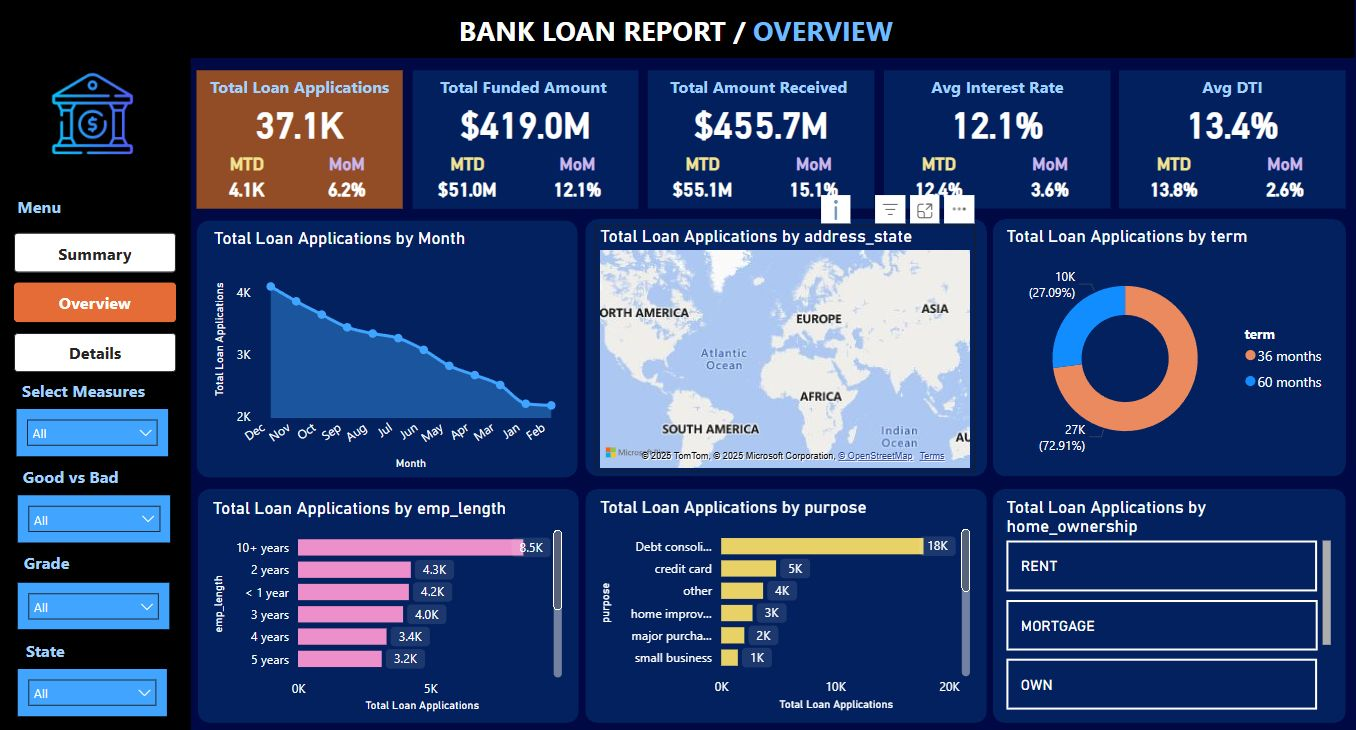

What the dashboard file says about the page in this screenshot:
{"tool":"powerbi","page":{"name":"Overview","canvas":[1335,720],"ordinal":1},"visuals":[{"type":"shape","box":[975.9,480.6,347,229.9],"z":0},{"type":"shape","box":[575.4,480.6,394.7,229.9],"z":1000},{"type":"shape","box":[195.2,480.6,374.5,229.9],"z":2000},{"type":"shape","box":[194,69.5,202.7,136.1],"z":3000,"group":"g1"},{"type":"shape","box":[405.8,69.5,221.5,136.1],"z":3000,"group":"g3"},{"type":"shape","box":[636.5,69.5,222.7,135.9],"z":3000,"group":"g4"},{"type":"shape","box":[868.2,69.5,222.7,135.9],"z":3000,"group":"g5"},{"type":"shape","box":[1100,69.5,222.7,135.9],"z":3000,"group":"g6"},{"type":"shape","box":[975.9,215.8,347,253],"z":3000},{"type":"card","fields":{"Values":["financial_loan.Total Loan Applications"]},"box":[194,88.3,202.7,65.2],"z":4000,"group":"g1"},{"type":"card","fields":{"Values":["financial_loan.Total Funded Amount"]},"box":[405.8,88.3,221.5,65.2],"z":4000,"group":"g3"},{"type":"card","fields":{"Values":["financial_loan.Total Amount Recieved"]},"box":[636.5,88.3,222.7,65.1],"z":4000,"group":"g4"},{"type":"card","fields":{"Values":["financial_loan.Avg Interest Rate"]},"box":[868.2,88.3,222.7,65.1],"z":4000,"group":"g5"},{"type":"card","fields":{"Values":["financial_loan.Avg DTI"]},"box":[1100,88.3,222.7,65.1],"z":4000,"group":"g6"},{"type":"shape","box":[575.4,215.8,394.7,253],"z":4000},{"type":"shape","box":[0,0,1330.1,57.8],"z":5000},{"type":"textbox","box":[194,69.5,202.7,34.8],"z":5000,"group":"g1"},{"type":"textbox","box":[405.8,69.5,221.5,34.8],"z":5000,"group":"g3"},{"type":"textbox","box":[636.5,69.5,222.7,34.7],"z":5000,"group":"g4"},{"type":"textbox","box":[868.2,69.5,222.7,34.7],"z":5000,"group":"g5"},{"type":"textbox","box":[1100,69.5,222.7,34.7],"z":5000,"group":"g6"},{"type":"textbox","box":[433.7,7.2,462.7,50.6],"z":6000},{"type":"card","title":"MTD","fields":{"Values":["financial_loan.MTD Total Amount Received"]},"box":[655.3,151.9,70.8,52],"z":6000,"group":"g4"},{"type":"card","title":"MTD","fields":{"Values":["financial_loan.MTD Avg Int Rate"]},"box":[887,151.9,70.8,52],"z":6000,"group":"g5"},{"type":"card","title":"MTD","fields":{"Values":["financial_loan.MTD Avg DTI"]},"box":[1118.8,151.9,70.8,52],"z":6000,"group":"g6"},{"type":"card","title":"MTD","fields":{"Values":["financial_loan.MTD Loan Applications"]},"box":[211.1,152,64.5,52.1],"z":6000,"group":"g1"},{"type":"card","title":"MTD","fields":{"Values":["financial_loan.MTD Funded Amount"]},"box":[424.5,152,70.5,52.1],"z":6000,"group":"g3"},{"type":"shape","box":[0,57.8,188,662.2],"z":7000},{"type":"card","title":"MoM","fields":{"Values":["financial_loan.MoM Total Amount Received"]},"box":[763.7,151.9,70.8,52],"z":7000,"group":"g4"},{"type":"card","title":"MoM","fields":{"Values":["financial_loan.MoM Avg Int Rate"]},"box":[995.4,151.9,70.8,52],"z":7000,"group":"g5"},{"type":"card","title":"MoM","fields":{"Values":["financial_loan.MoM Avg DTI"]},"box":[1227.2,151.9,70.8,52],"z":7000,"group":"g6"},{"type":"card","title":"MoM","fields":{"Values":["financial_loan.MoM Loan Application"]},"box":[309.8,152,64.5,52.1],"z":7000,"group":"g1"},{"type":"card","title":"MoM","fields":{"Values":["financial_loan.MoM Total Funded Amount"]},"box":[532.4,152,70.5,52.1],"z":7000,"group":"g3"},{"type":"group","id":"g1","title":"Group 2","box":[194,69.5,202.7,136.1],"z":7002,"group":"g2"},{"type":"pageNavigator","box":[14.5,229.9,159,137.3],"z":8000},{"type":"shape","box":[193.7,217.3,374.5,253],"z":9000},{"type":"image","box":[33.3,57.8,115.7,112.8],"z":10000},{"type":"textbox","box":[1.8,187.5,76.6,34.7],"z":11000},{"type":"slicer","fields":{"Values":["financial_loan.Good vs Bad Loan"]},"box":[18.8,434.7,148.9,54.9],"z":12000},{"type":"slicer","fields":{"Values":["financial_loan.grade"]},"box":[18.8,543.1,148.9,54.9],"z":13000},{"type":"slicer","fields":{"Values":["financial_loan.address_state"]},"box":[18.8,647.1,148.9,54.9],"z":14000},{"type":"textbox","box":[0,508.4,91.1,34.7],"z":15000},{"type":"textbox","box":[0,612.4,91.1,34.7],"z":16000},{"type":"group","id":"g2","title":"Group 1","box":[194,69.5,202.7,136.1],"z":17000},{"type":"group","id":"g3","title":"Group 2","box":[405.8,69.5,221.5,136.1],"z":18000},{"type":"group","id":"g4","title":"Group 2","box":[636.5,69.5,222.7,135.9],"z":19000},{"type":"group","id":"g5","title":"Group 2","box":[868.2,69.5,222.7,135.9],"z":20000},{"type":"group","id":"g6","title":"Group 2","box":[1100,69.5,223,136.1],"z":21000},{"type":"slicer","title":"Select ","fields":{"Values":["Select Measures.Select Measures"]},"box":[15.9,33.3,151.8,53.5],"z":22000},{"type":"textbox","box":[1.4,-0.4,163.4,34.7],"z":23000},{"type":"textbox","box":[2.9,400.5,135.9,34.7],"z":24000},{"type":"stackedAreaChart","fields":{"Category":["Date Table.Month"],"Y":["financial_loan.Total Loan Applications"]},"box":[206.7,224.1,351.3,242.9],"z":25000},{"type":"donutChart","fields":{"Y":["financial_loan.Total Loan Applications"],"Category":["financial_loan.term"]},"box":[984.6,221.6,328.2,242.9],"z":26000},{"type":"filledMap","fields":{"Y":["financial_loan.Total Loan Applications"],"Category":["financial_loan.address_state"]},"box":[585.5,221.6,373,242.9],"z":27000},{"type":"clusteredBarChart","fields":{"Y":["financial_loan.Total Loan Applications"],"Category":["financial_loan.emp_length"]},"box":[205.3,490.1,352.8,215.4],"z":28000},{"type":"clusteredBarChart","fields":{"Y":["financial_loan.Total Loan Applications"],"Category":["financial_loan.purpose"]},"box":[585.5,487.8,373,215.4],"z":29000},{"type":"advancedSlicerVisual","fields":{"Values":["financial_loan.home_ownership"]},"box":[984.6,487.8,328.2,215.4],"z":30000}]}

Visuals, with their boxes in screenshot pixels (x1, y1, x2, y2), scaled from the page's 1335x720 canvas onto the 1356x730 screenshot:
shape: (991,487,1344,720)
shape: (584,487,985,720)
shape: (198,487,579,720)
shape: (197,70,403,208)
shape: (412,70,637,208)
shape: (647,70,873,208)
shape: (882,70,1108,208)
shape: (1117,70,1344,208)
shape: (991,219,1344,475)
card - financial_loan.Total Loan Applications: (197,90,403,156)
card - financial_loan.Total Funded Amount: (412,90,637,156)
card - financial_loan.Total Amount Recieved: (647,90,873,156)
card - financial_loan.Avg Interest Rate: (882,90,1108,156)
card - financial_loan.Avg DTI: (1117,90,1344,156)
shape: (584,219,985,475)
shape: (0,0,1351,59)
textbox: (197,70,403,106)
textbox: (412,70,637,106)
textbox: (647,70,873,106)
textbox: (882,70,1108,106)
textbox: (1117,70,1344,106)
textbox: (441,7,911,59)
"MTD" card: (666,154,738,207)
"MTD" card: (901,154,973,207)
"MTD" card: (1136,154,1208,207)
"MTD" card: (214,154,280,207)
"MTD" card: (431,154,503,207)
shape: (0,59,191,729)
"MoM" card: (776,154,848,207)
"MoM" card: (1011,154,1083,207)
"MoM" card: (1247,154,1318,207)
"MoM" card: (315,154,380,207)
"MoM" card: (541,154,612,207)
"Group 2" group: (197,70,403,208)
pageNavigator: (15,233,176,372)
shape: (197,220,577,477)
image: (34,59,151,173)
textbox: (2,190,80,225)
slicer - financial_loan.Good vs Bad Loan: (19,441,170,496)
slicer - financial_loan.grade: (19,551,170,606)
slicer - financial_loan.address_state: (19,656,170,712)
textbox: (0,515,93,551)
textbox: (0,621,93,656)
"Group 1" group: (197,70,403,208)
"Group 2" group: (412,70,637,208)
"Group 2" group: (647,70,873,208)
"Group 2" group: (882,70,1108,208)
"Group 2" group: (1117,70,1344,208)
"Select " slicer: (16,34,170,88)
textbox: (1,0,167,35)
textbox: (3,406,141,441)
stackedAreaChart - Date Table.Month x financial_loan.Total Loan Applications: (210,227,567,473)
donutChart - financial_loan.Total Loan Applications x financial_loan.term: (1000,225,1333,471)
filledMap - financial_loan.Total Loan Applications x financial_loan.address_state: (595,225,974,471)
clusteredBarChart - financial_loan.Total Loan Applications x financial_loan.emp_length: (209,497,567,715)
clusteredBarChart - financial_loan.Total Loan Applications x financial_loan.purpose: (595,495,974,713)
advancedSlicerVisual - financial_loan.home_ownership: (1000,495,1333,713)
